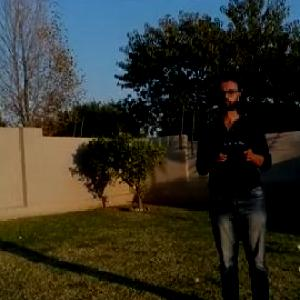follow: (190, 65, 286, 299)
